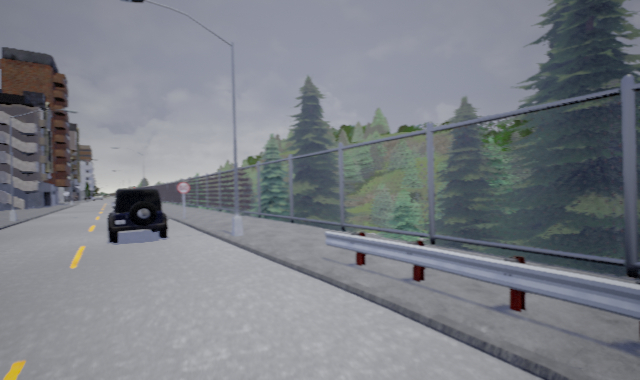traffic_sign: (176, 182, 191, 195)
vehicle: (106, 187, 171, 246)
